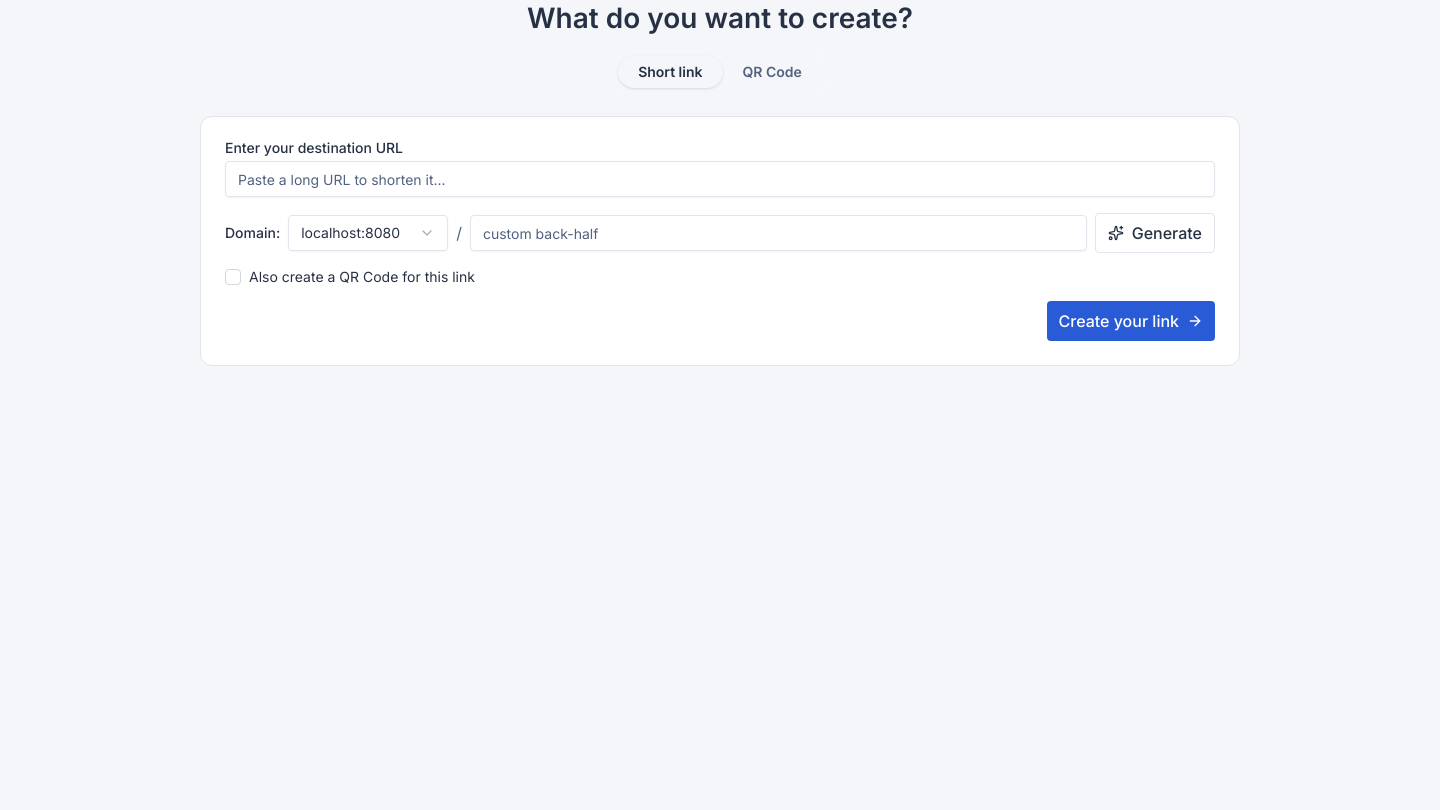
Scenario: QuickCreate › submits on Enter and shows the link-ready dialog
Type "https://example.com/long" into the field with placeholder "Paste a long URL to shorten it..." at [720, 179], box [225,161,1215,197]
Then press Enter
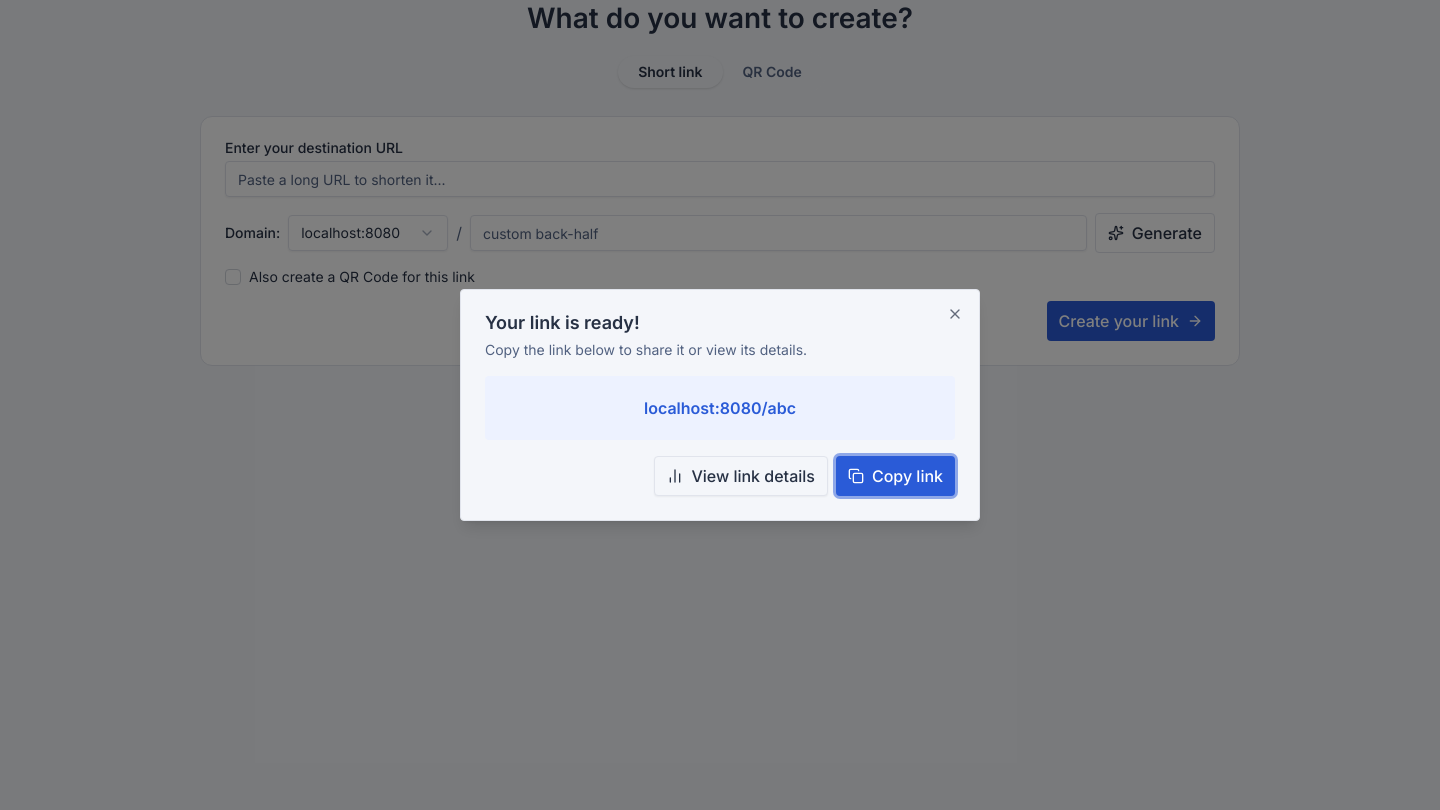
Now the heading "Your link is ready!" is shown, box [485,312,640,333]
Now the text "localhost:8080/abc" is shown, box [485,376,955,440]
Now the button "Copy link" is shown, box [836,456,955,496]
